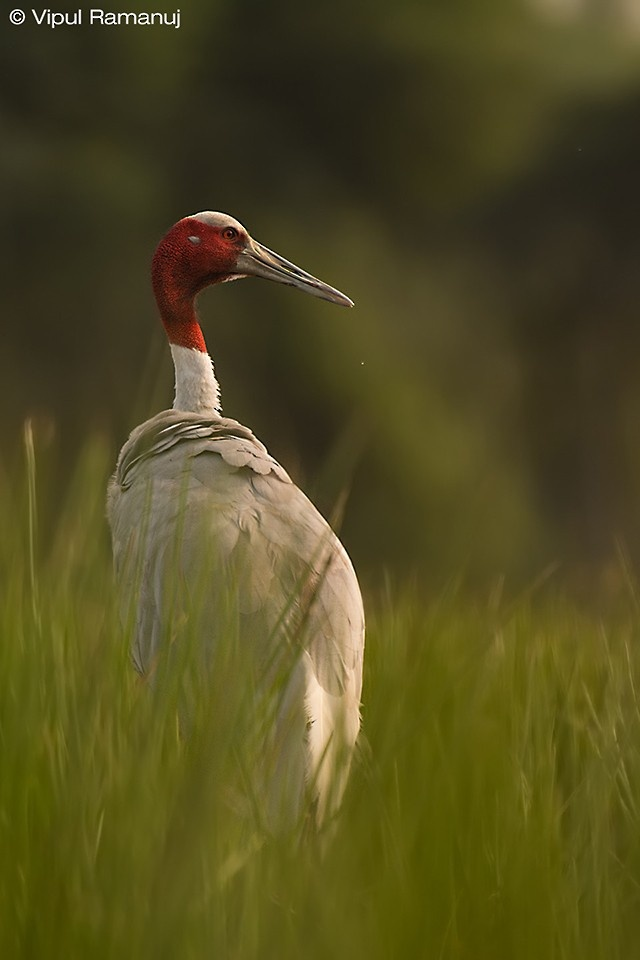crane: (125, 210, 373, 790)
